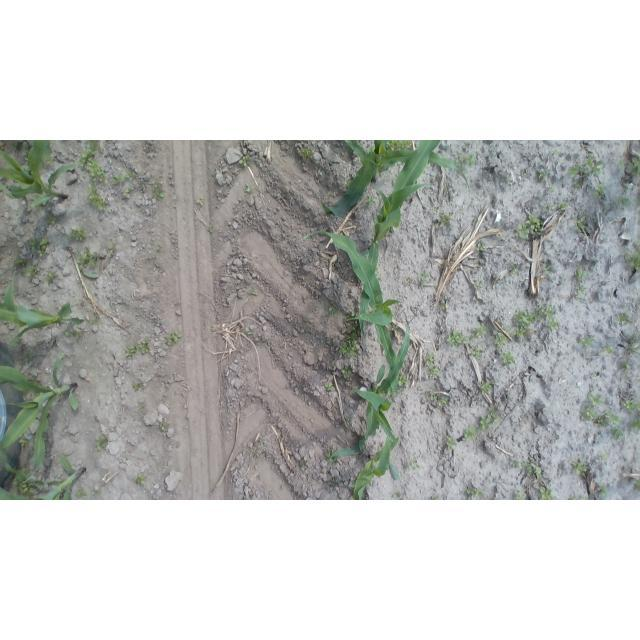Maize: (300, 223, 409, 389), (357, 142, 444, 347), (309, 141, 471, 219), (337, 310, 412, 472), (1, 353, 80, 473), (0, 267, 84, 352), (1, 140, 80, 210), (1, 449, 88, 500), (348, 435, 400, 500)
Weeds: (78, 140, 107, 185), (508, 307, 545, 340), (337, 310, 360, 358), (516, 213, 544, 239), (479, 406, 502, 430), (88, 185, 108, 211), (76, 249, 98, 270), (13, 477, 40, 494), (424, 389, 448, 408), (625, 243, 640, 271), (605, 196, 630, 212), (28, 238, 49, 257), (385, 141, 414, 154), (584, 155, 603, 174), (523, 458, 541, 478), (456, 150, 476, 167), (446, 330, 466, 347), (538, 302, 555, 319), (465, 485, 484, 500), (623, 398, 640, 414), (112, 171, 134, 183), (166, 330, 182, 346), (605, 411, 621, 427), (500, 351, 516, 367), (70, 227, 87, 242), (628, 337, 640, 358), (152, 181, 165, 200), (572, 460, 587, 476), (580, 407, 597, 421), (326, 449, 339, 467), (629, 157, 640, 178), (137, 338, 151, 354), (439, 212, 453, 228), (588, 394, 605, 407), (299, 146, 314, 160), (616, 310, 631, 324), (238, 154, 252, 169), (579, 336, 596, 348), (253, 440, 265, 457), (538, 487, 553, 500), (474, 324, 487, 339), (96, 434, 108, 450), (45, 267, 57, 283), (464, 427, 477, 441), (480, 380, 493, 394), (26, 264, 39, 278), (398, 373, 410, 388), (444, 437, 456, 452), (576, 216, 587, 232), (598, 484, 609, 500), (137, 177, 147, 194), (594, 184, 607, 197), (471, 346, 484, 359), (126, 344, 139, 357), (611, 428, 625, 440), (575, 267, 587, 281), (574, 285, 586, 299), (420, 271, 431, 286), (629, 477, 640, 492), (22, 141, 31, 159), (495, 333, 507, 346), (546, 317, 558, 330), (44, 214, 58, 225), (134, 472, 146, 484), (91, 318, 102, 331), (13, 257, 27, 267), (366, 193, 376, 207), (68, 330, 83, 339), (629, 418, 640, 430), (76, 489, 88, 500), (326, 305, 339, 315), (342, 366, 352, 379), (108, 242, 116, 258), (569, 166, 580, 177), (124, 185, 135, 196), (597, 416, 608, 427), (511, 458, 522, 469), (325, 383, 336, 394), (409, 457, 419, 469), (44, 154, 54, 166), (514, 490, 526, 500), (393, 490, 405, 500), (426, 354, 435, 367), (541, 263, 551, 274), (341, 415, 352, 425), (429, 366, 440, 376), (600, 346, 612, 355), (619, 360, 629, 370), (43, 202, 53, 212), (344, 177, 353, 188), (28, 376, 40, 384), (131, 382, 141, 391), (245, 183, 254, 193), (18, 439, 28, 448), (299, 458, 308, 468), (23, 353, 31, 364), (248, 288, 259, 296), (558, 202, 567, 211), (572, 182, 581, 191), (617, 158, 626, 167), (477, 241, 485, 251), (546, 202, 554, 212), (537, 171, 547, 179), (508, 266, 518, 274), (159, 421, 167, 431), (196, 200, 207, 207), (569, 496, 584, 501), (474, 282, 482, 291), (601, 451, 609, 460), (548, 184, 557, 192), (92, 491, 101, 498), (552, 149, 561, 156), (441, 303, 447, 313), (507, 177, 514, 185), (207, 224, 214, 232), (391, 325, 399, 332), (331, 477, 339, 484), (317, 168, 323, 177), (591, 371, 598, 378), (432, 496, 441, 501), (407, 279, 413, 286), (349, 482, 354, 489), (327, 192, 334, 197), (444, 189, 450, 194), (636, 199, 640, 206), (157, 247, 162, 251)
